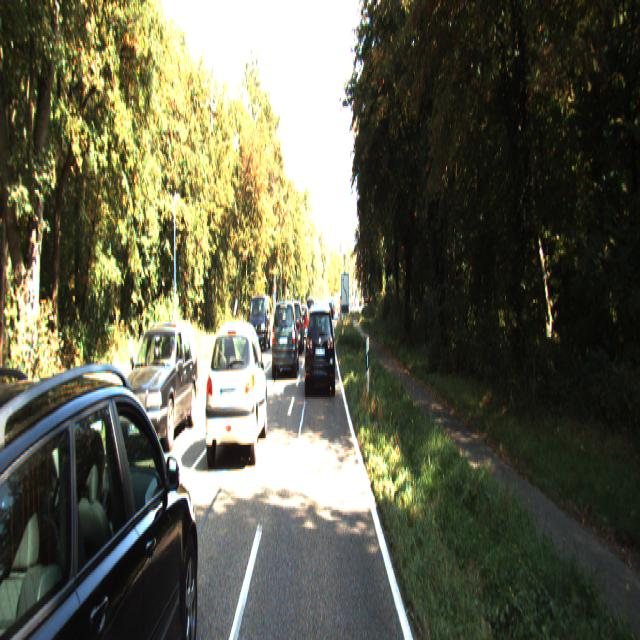Car: (0, 334, 205, 638), (0, 312, 68, 638), (114, 318, 200, 461), (204, 314, 267, 465), (304, 300, 335, 393), (272, 299, 299, 377), (248, 292, 270, 350)
